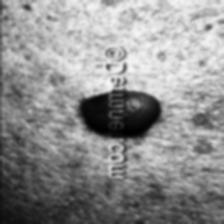Potentially Malignant Skin Tumors: (78, 90, 158, 132)
